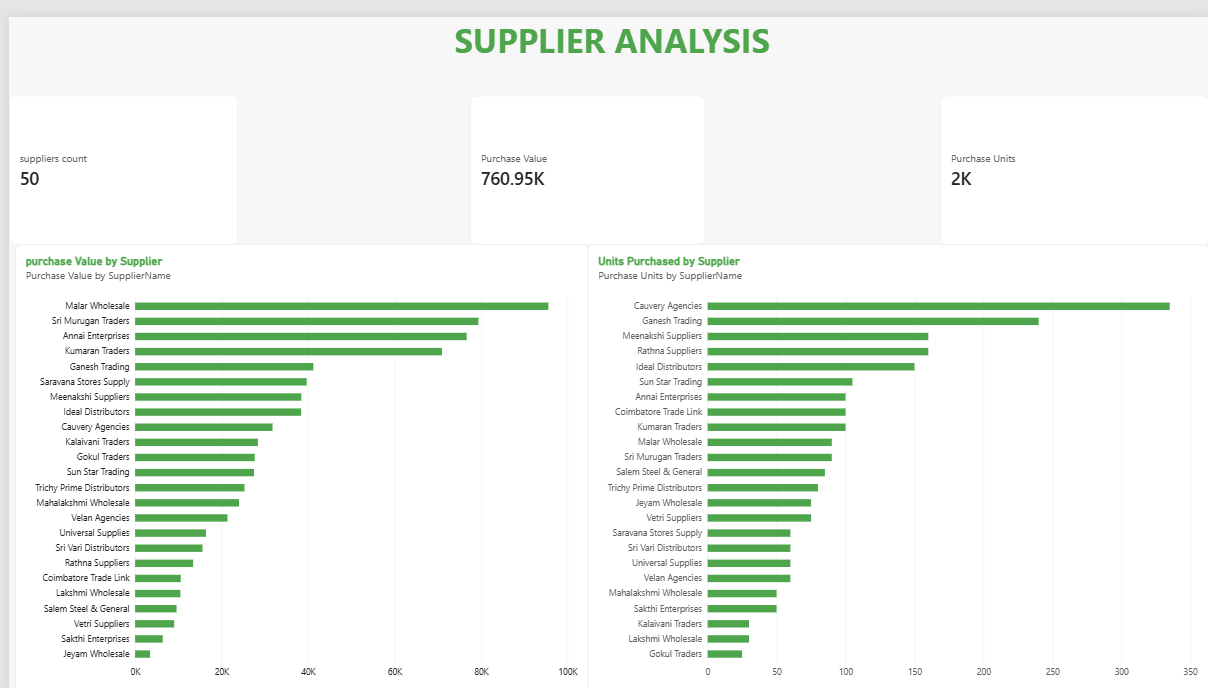

What the dashboard file says about the page in this screenshot:
{"tool":"powerbi","page":{"name":"Page 3","canvas":[1920,1080],"ordinal":2},"visuals":[{"type":"textbox","box":[10.6,0,1910.4,106.1],"z":0},{"type":"barChart","title":"purchase Value by Supplier","fields":{"Category":["Suppliers.SupplierName"],"Y":["Sales.Purchase Value"]},"box":[10.5,364.5,917,715.3],"z":1000},{"type":"barChart","title":"Units Purchased by Supplier","fields":{"Category":["Suppliers.SupplierName"],"Y":["Sales.Purchase Units"]},"box":[926.2,364.5,993.4,715.3],"z":2000},{"type":"cardVisual","fields":{"Data":["Suppliers.suppliers count"]},"box":[0,125.6,366.3,239],"z":3000},{"type":"cardVisual","fields":{"Data":["Sales.Purchase Value"]},"box":[737.8,125.6,375,239],"z":4000},{"type":"cardVisual","fields":{"Data":["Sales.Purchase Units"]},"box":[1489.5,125.6,430.8,239],"z":4001}]}

Visuals, with their boxes in screenshot pixels (x1, y1, x2, y2), scaled from the page's 1920x1080 canvas onto the 1208x688 screenshot:
textbox: [7, 0, 1207, 68]
"purchase Value by Supplier" barChart: [7, 232, 584, 687]
"Units Purchased by Supplier" barChart: [583, 232, 1207, 687]
cardVisual - Suppliers.suppliers count: [0, 80, 230, 232]
cardVisual - Sales.Purchase Value: [464, 80, 700, 232]
cardVisual - Sales.Purchase Units: [937, 80, 1207, 232]
